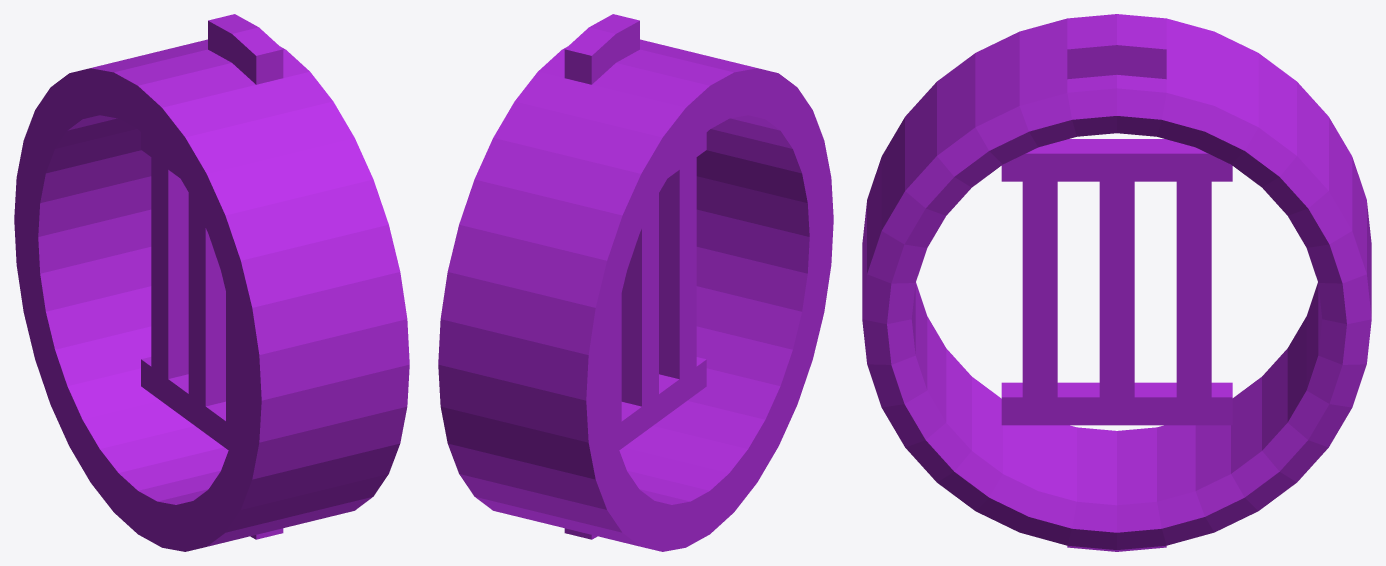
The picture shows the model from 3 angles, left to right: view 1: azimuth 30°, elevation 25°; view 2: azimuth 150°, elevation 25°; view 3: azimuth 270°, elevation 25°; orthographic projection. The views are drawn at different scales.
Visible parts, largest first — view 1: 円柱, 1; view 2: 円柱, 1; view 3: 円柱, 1.
Part boxes in pixels (box(x1,y1,x2,y2)): 円柱: box(14, 14, 409, 551); 1: box(141, 132, 237, 449); 円柱: box(438, 14, 833, 551); 1: box(610, 133, 706, 449); 円柱: box(862, 14, 1371, 551); 1: box(1001, 139, 1232, 425).
Size of the model in its own units: 144 by 430 by 392.
